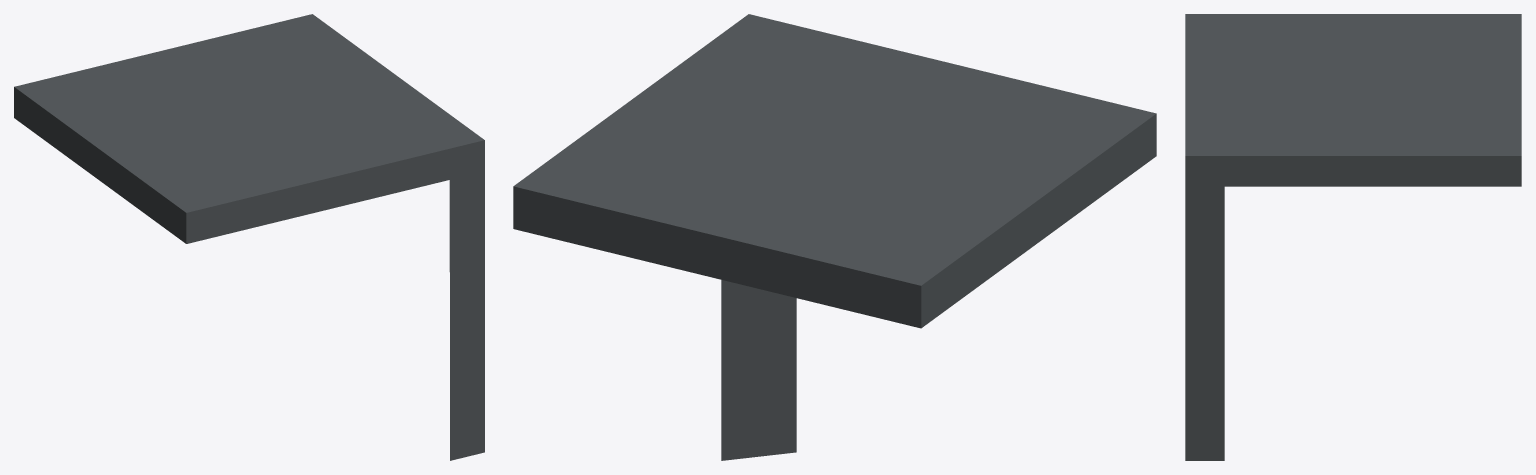
The model's file is EspacioContenidoEsquinaAperturaInteriorAltoNS.gltf.
3 renders of one model, left to right at view 1: azimuth 30°, elevation 25°; view 2: azimuth 150°, elevation 25°; view 3: azimuth 270°, elevation 25°, orthographic. The views are drawn at different scales.
Visible parts, largest first — view 1: Cubo.15; view 2: Cubo.15; view 3: Cubo.15.
Part boxes in pixels (x1=…): Cubo.15: x1=14, y1=14, x2=484, y2=460; Cubo.15: x1=513, y1=14, x2=1156, y2=460; Cubo.15: x1=1185, y1=14, x2=1521, y2=460.
Size of the model in its own units: 2 by 2 by 2.
Materials: 1 (1 with a texture image).
